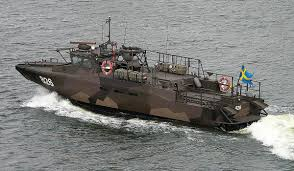boat: (15, 15, 267, 131)
